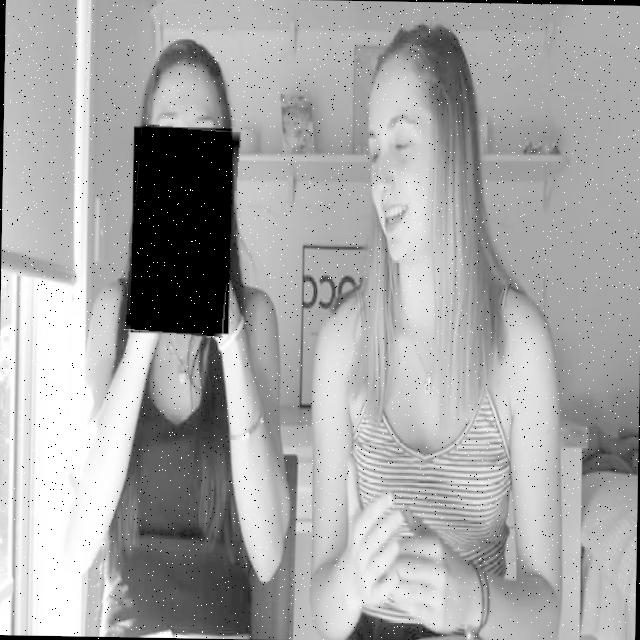Z: (127, 125, 237, 336)
